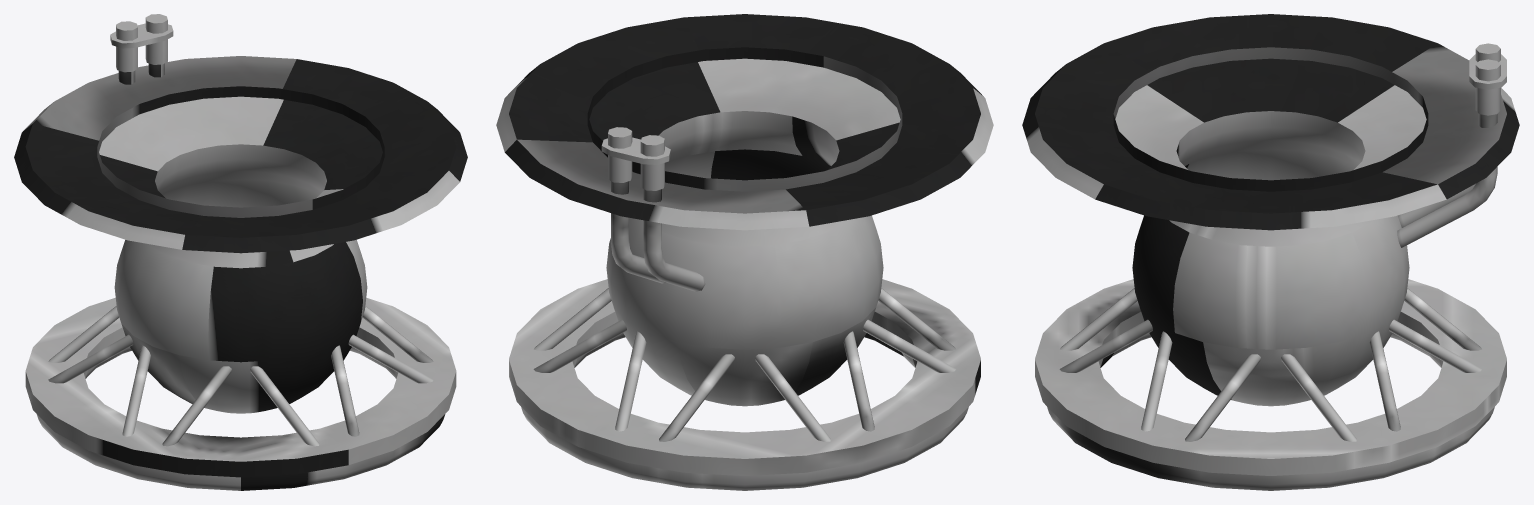
The model's file is 4mv_vl_avionics_s0p5_1.obj.
3 renders of one model, left to right at view 1: azimuth 30°, elevation 25°; view 2: azimuth 150°, elevation 25°; view 3: azimuth 270°, elevation 25°, orthographic. The views are drawn at different scales.
Visible parts, largest first — view 1: mesh1; view 2: mesh1; view 3: mesh1.
Boxes of the visible parts, x1=… form: mesh1: x1=14, y1=14, x2=467, y2=490; mesh1: x1=496, y1=14, x2=993, y2=490; mesh1: x1=1022, y1=14, x2=1519, y2=490.
Size of the model in its own units: 0.9875 by 0.75 by 0.9875.
